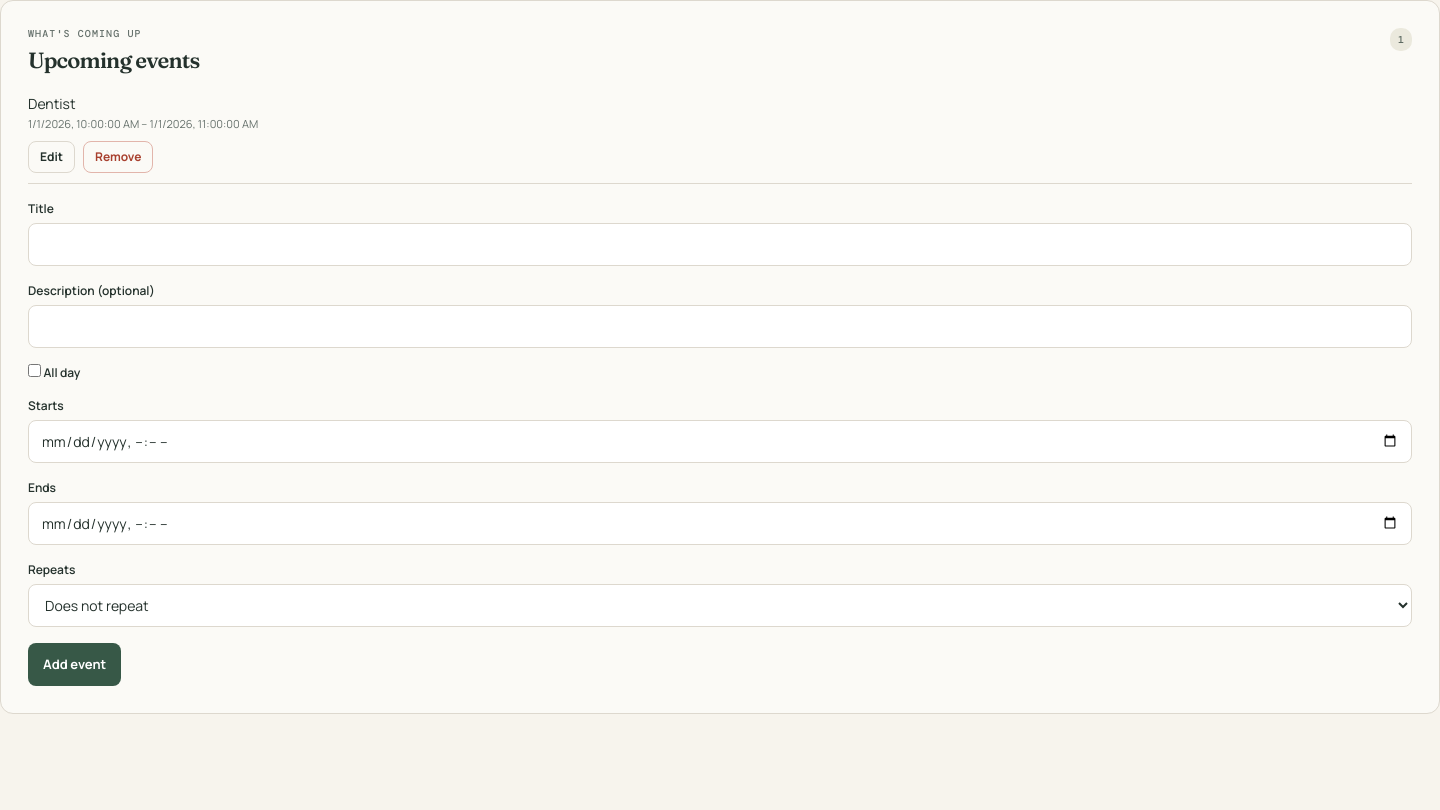
CalendarPanel › edits an event, including fields absent from the title/starts/ends inputs
The image size is (1440, 810).
Click the button "Edit".
click(52, 156)  # box x1=28 y1=140 x2=75 y2=172
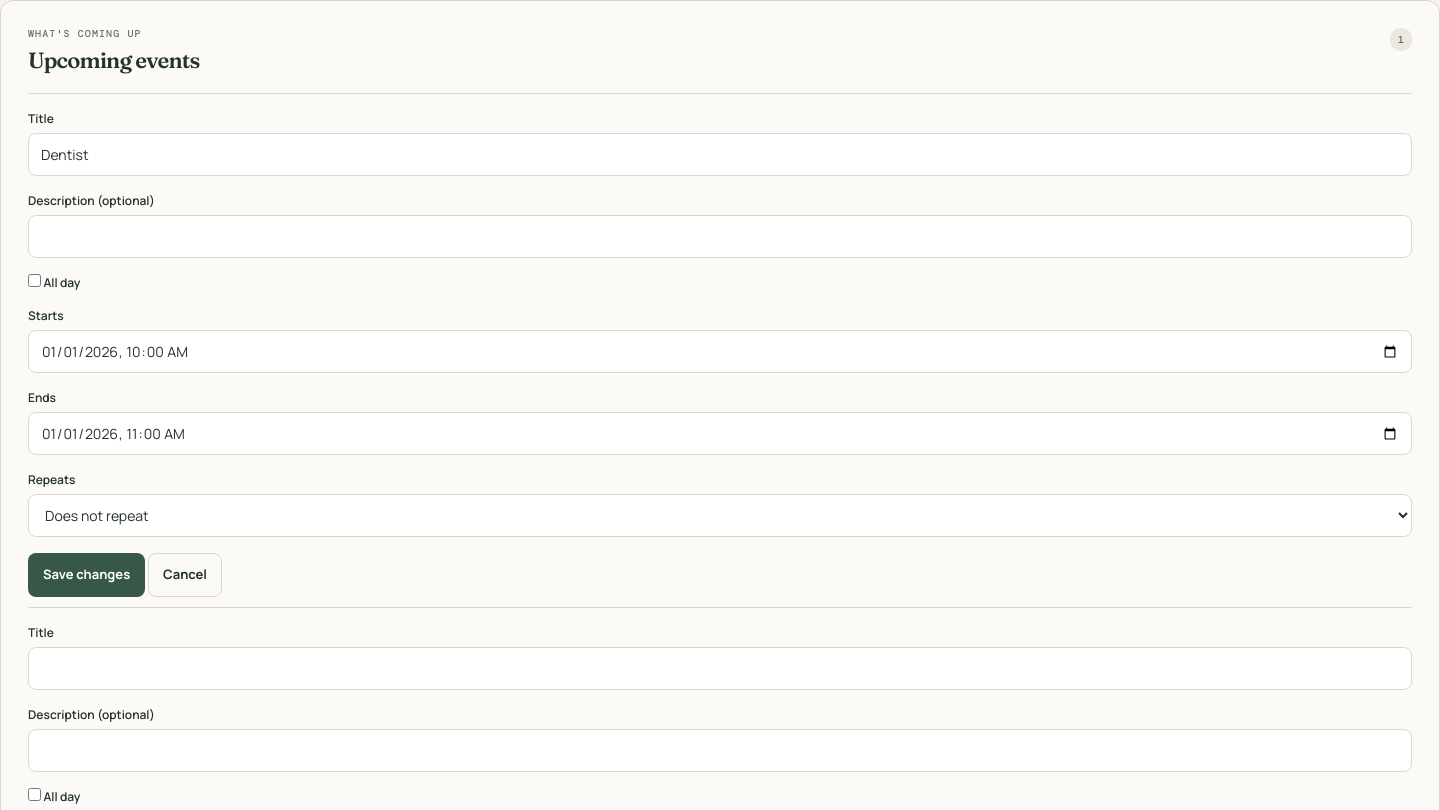
Replace the text in the 1st field labelled "Title" with "Dentist (updated)" at (720, 154), box x1=28 y1=133 x2=1412 y2=176
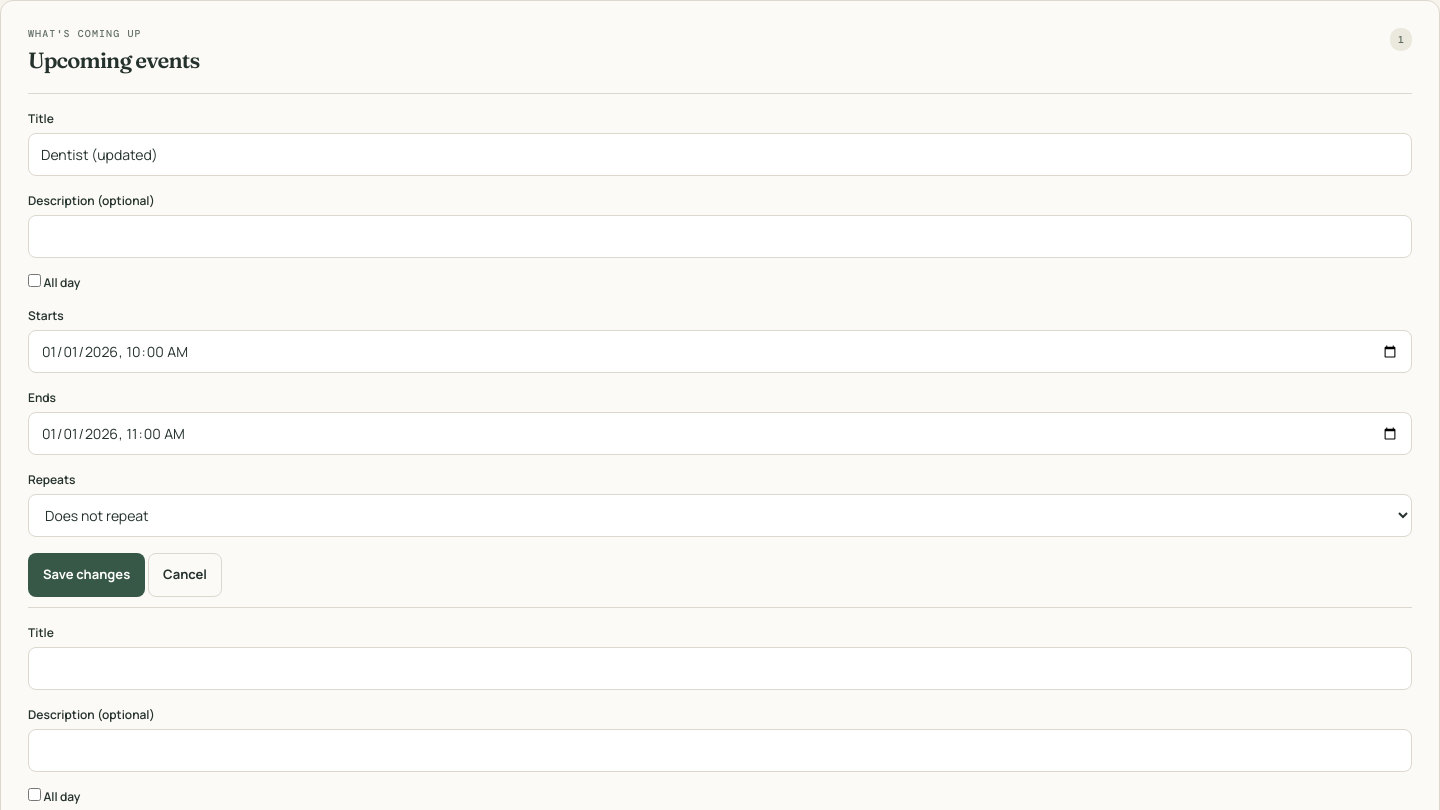
Type "Annual checkup" into the 1st field labelled "Description (optional)".
click(720, 236); type("Annual checkup")  # box x1=28 y1=215 x2=1412 y2=258
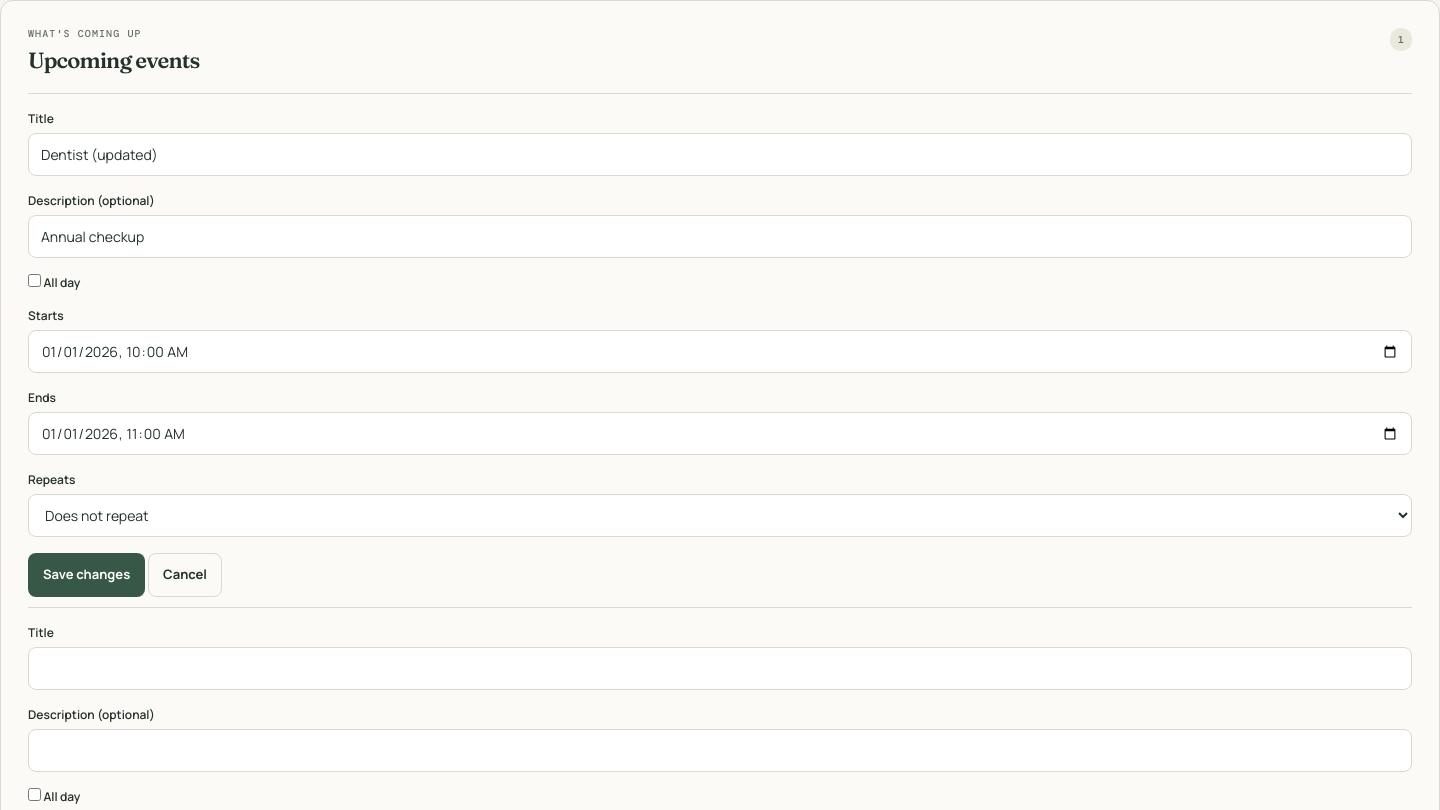
Click the button "Save changes".
click(87, 575)  # box x1=28 y1=553 x2=145 y2=596
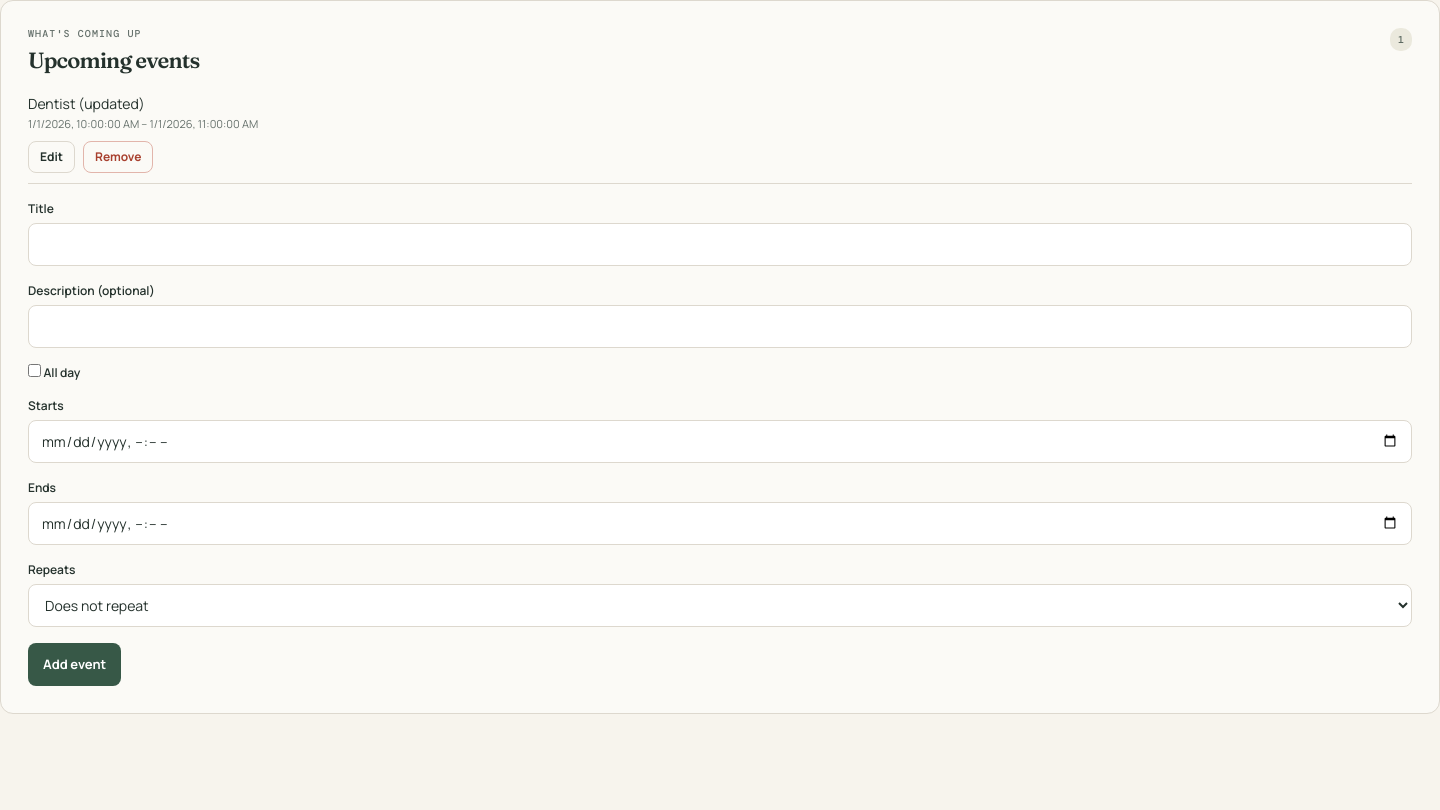
Now the text "Dentist (updated)" is shown, box x1=28 y1=94 x2=145 y2=113
